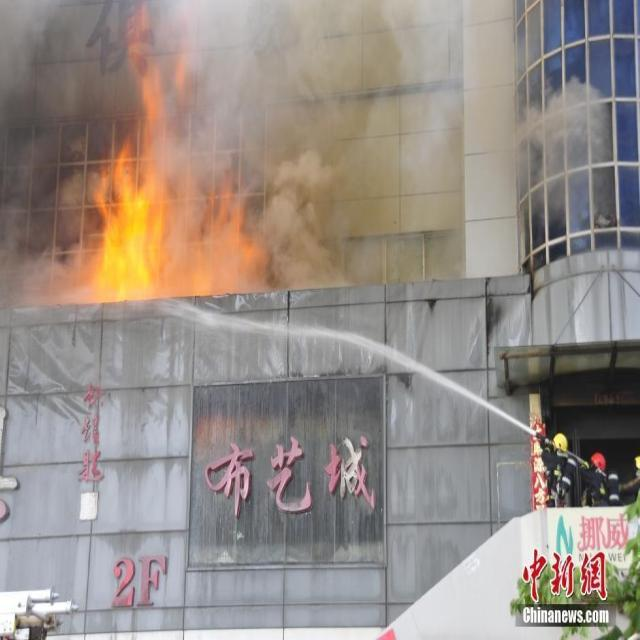Fire: (80, 12, 169, 303)
Smoke: (1, 1, 464, 305), (510, 74, 610, 228)
